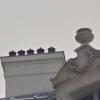Statue: (65, 10, 100, 79)
